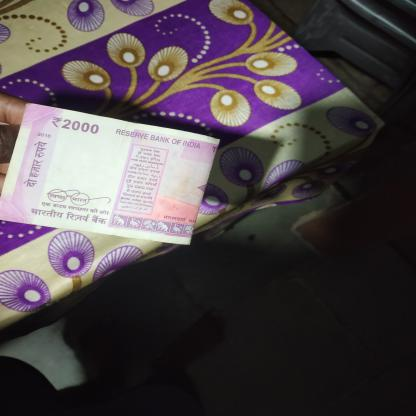New2000Back: (21, 112, 204, 233)
